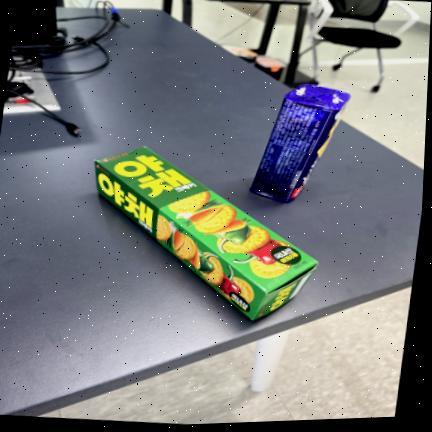cracker_ace: (250, 84, 350, 202)
cracker_vege: (94, 147, 317, 319)
